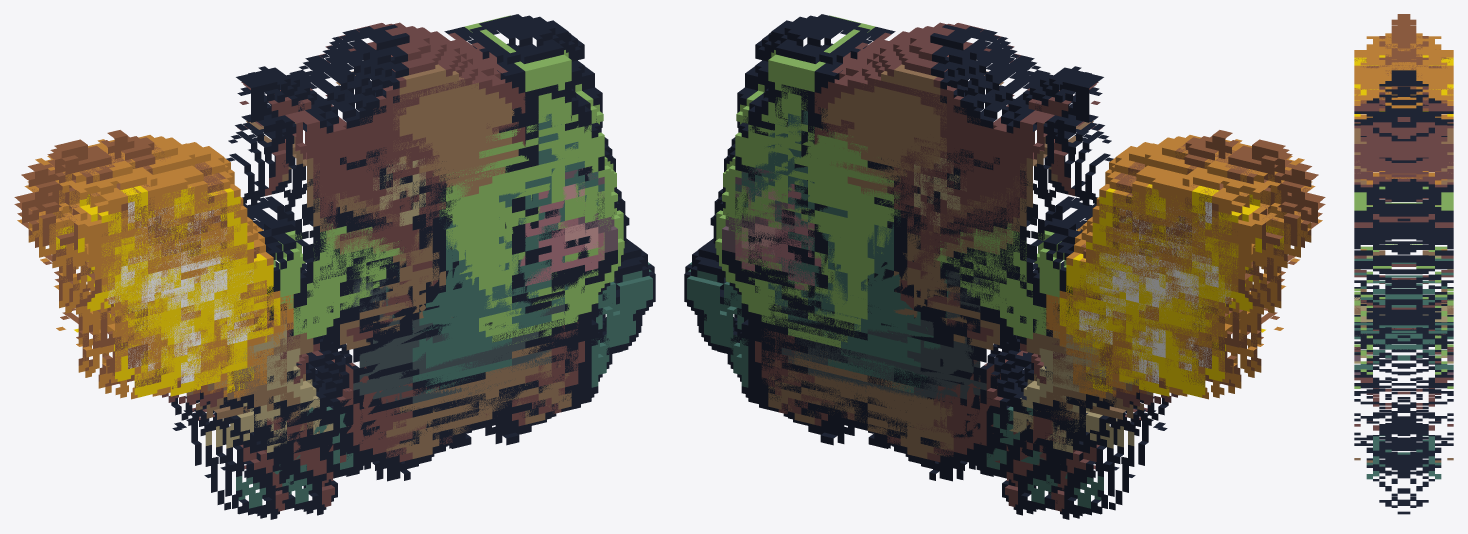
Rendered from torch_goblin_invasor.glb.
3 views of the same model, side by side, from view 1: azimuth 30°, elevation 25°; view 2: azimuth 150°, elevation 25°; view 3: azimuth 270°, elevation 25° (orthographic). The views are drawn at different scales.
Parts seen in each view (by area): view 1: q0, q2, q1, q3, q5, q4; view 2: q0, q1, q2, q3, q4, q5; view 3: q2, q1, q0, q4, q5, q3.
Part boxes in pixels (x1=…): q0: x1=28, y1=60, x2=629, y2=515; q2: x1=21, y1=14, x2=617, y2=445; q1: x1=17, y1=42, x2=604, y2=472; q3: x1=17, y1=136, x2=615, y2=519; q5: x1=14, y1=135, x2=642, y2=488; q4: x1=14, y1=139, x2=655, y2=486; q0: x1=710, y1=60, x2=1310, y2=515; q1: x1=735, y1=42, x2=1322, y2=470; q2: x1=722, y1=14, x2=1318, y2=460; q3: x1=724, y1=136, x2=1322, y2=519; q4: x1=684, y1=45, x2=1325, y2=483; q5: x1=697, y1=135, x2=1325, y2=488; q2: x1=1354, y1=30, x2=1453, y2=507; q1: x1=1354, y1=33, x2=1453, y2=499; q0: x1=1354, y1=24, x2=1453, y2=484; q4: x1=1354, y1=14, x2=1453, y2=474; q5: x1=1354, y1=14, x2=1453, y2=470; q3: x1=1354, y1=25, x2=1453, y2=514.
Size of the model in its own units: 95 by 66 by 16.
Materials: 1 (1 with a texture image).
